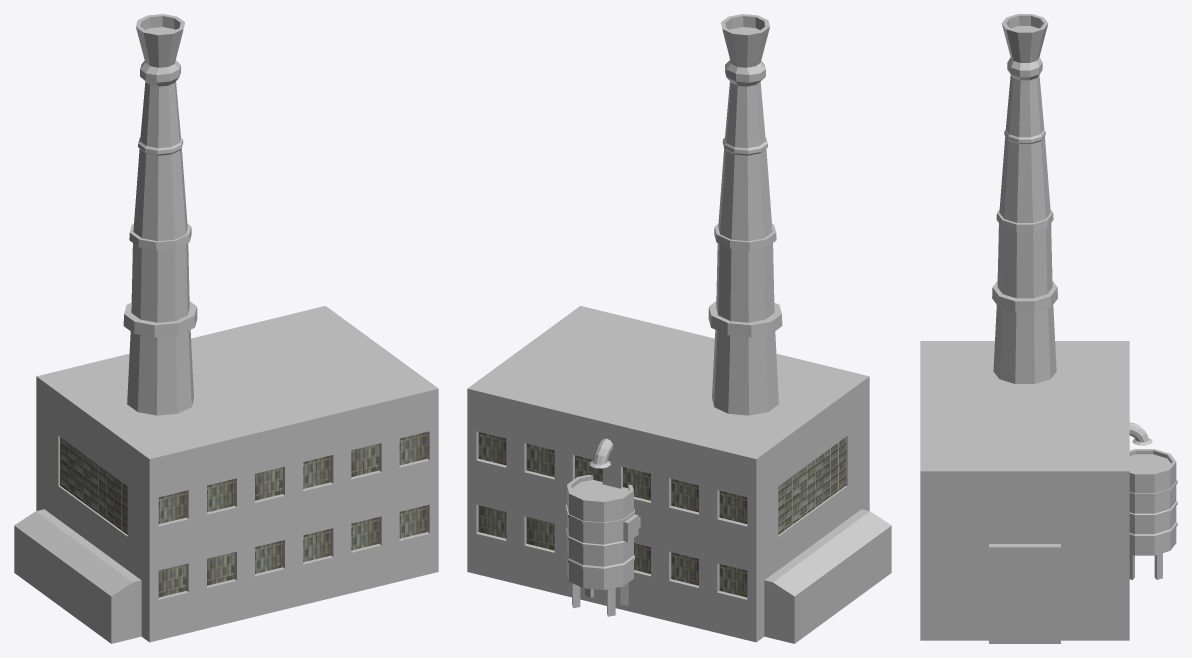
Rendered from Factory.fbx.
The picture shows the model from 3 angles, left to right: view 1: azimuth 30°, elevation 25°; view 2: azimuth 150°, elevation 25°; view 3: azimuth 270°, elevation 25°; orthographic projection. The views are drawn at different scales.
Visible parts, largest first — view 1: Factory; view 2: Factory, Cylinder; view 3: Factory, Cylinder.
Part boxes in pixels (x1,y1,x2,y2): Factory: (14,14,438,643); Factory: (467,14,891,643); Cylinder: (565,474,640,616); Factory: (920,14,1129,643); Cylinder: (1129,449,1177,579).
Size of the model in its own units: 1103 by 1855 by 813.
